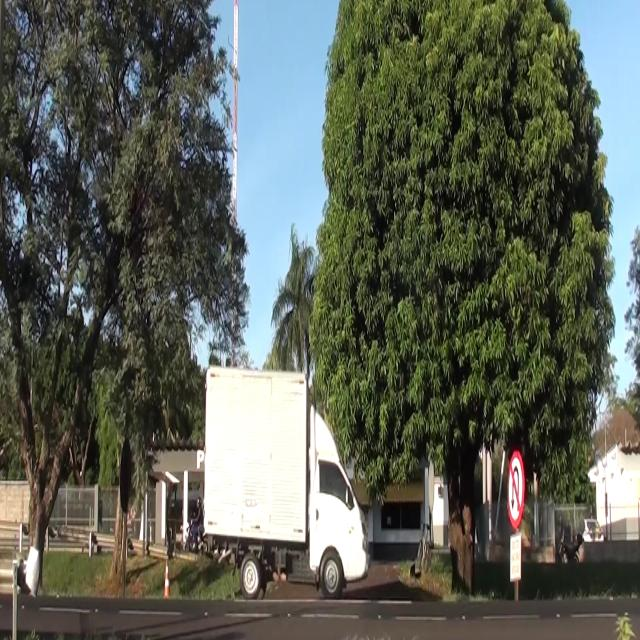-axle: (319, 550, 342, 598), (241, 554, 259, 601)
